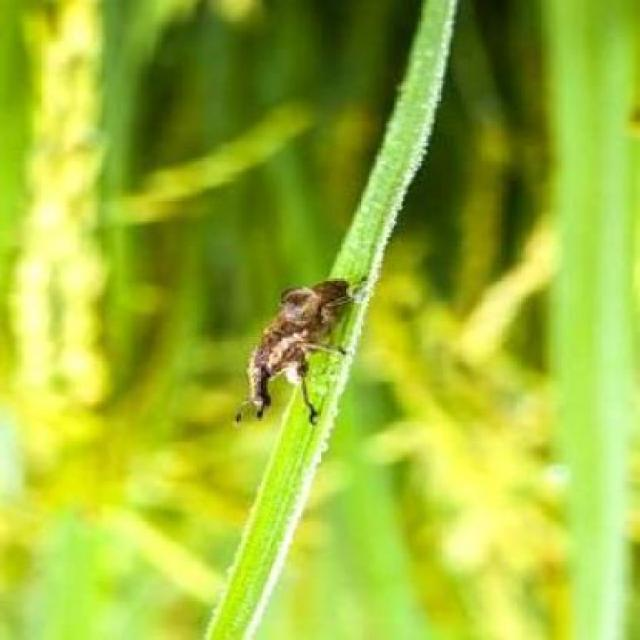rice-bug: (234, 272, 371, 428)
